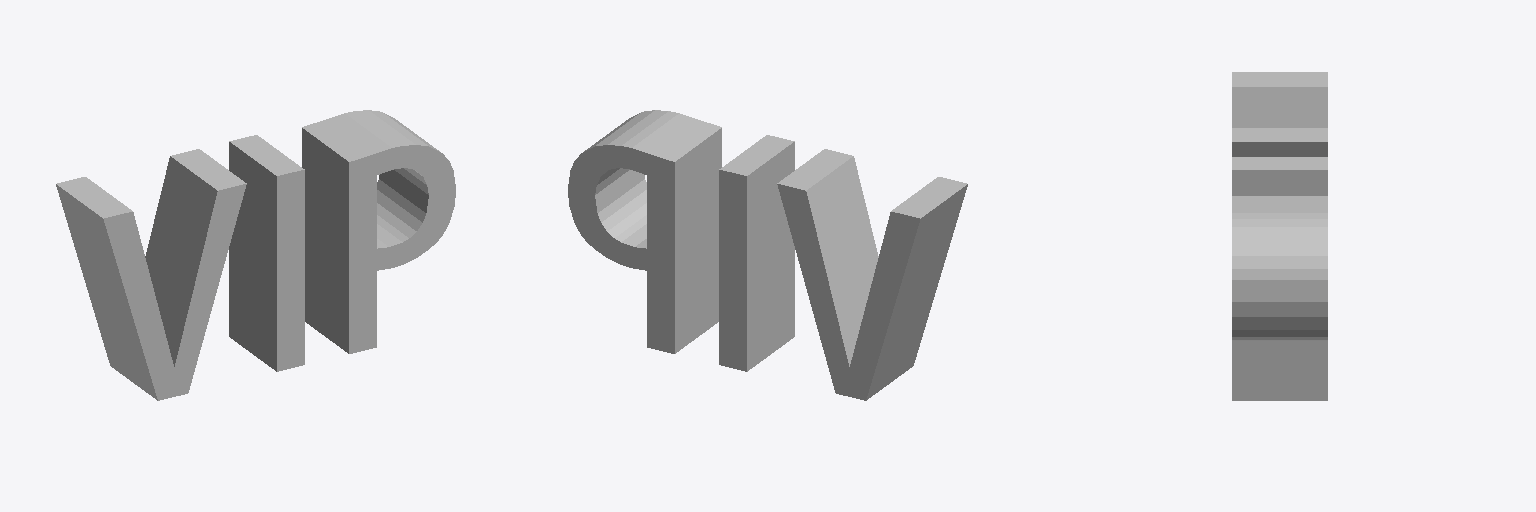
File: VIP.obj
The picture shows the model from 3 angles: view 1: azimuth 30°, elevation 25°; view 2: azimuth 150°, elevation 25°; view 3: azimuth 270°, elevation 25°; orthographic projection.
Parts seen in each view (by area): view 1: VIP; view 2: VIP; view 3: VIP.
Part boxes in pixels (left/top/right/bottom): VIP: left=56, top=110, right=455, bottom=400; VIP: left=568, top=110, right=967, bottom=400; VIP: left=1232, top=72, right=1327, bottom=400.
Bounding box in the file's own units: 1.31 × 0.6952 × 0.3067.